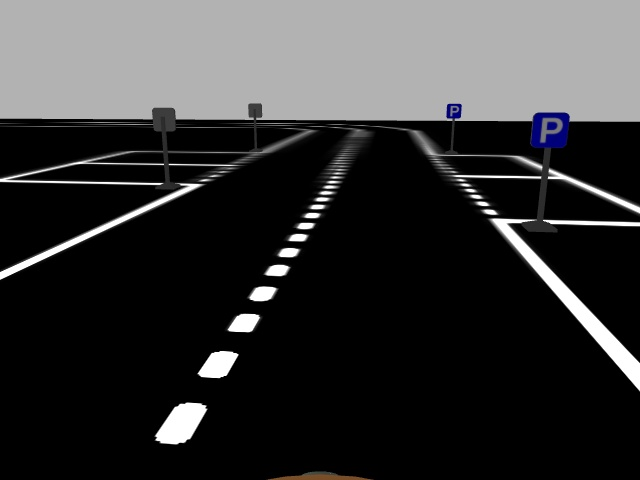parking: (529, 110, 570, 148), (445, 101, 462, 119)
